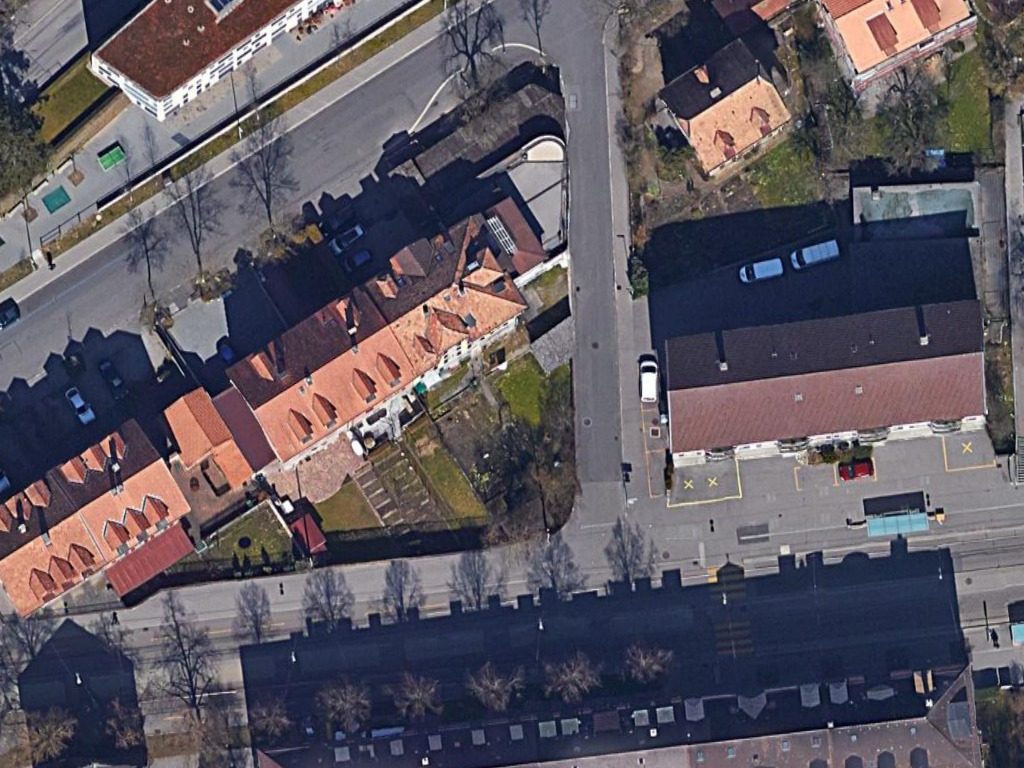car: (61, 384, 100, 427)
van: (787, 235, 844, 273), (731, 251, 785, 290), (634, 353, 661, 408)
